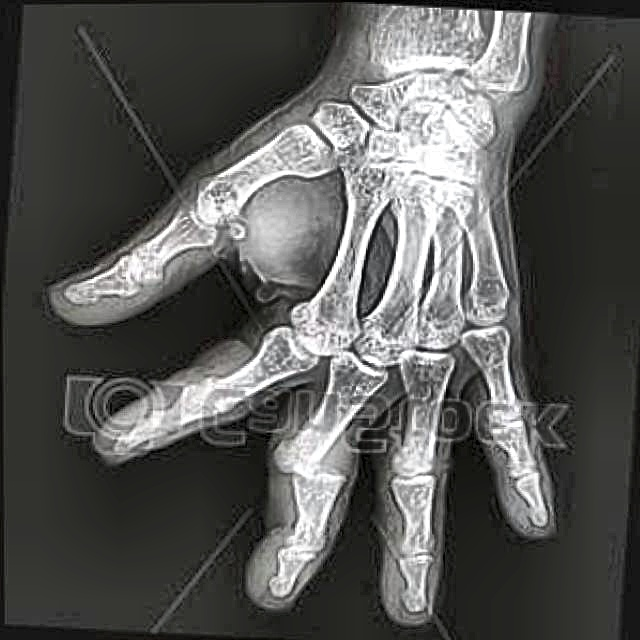Transverse: (262, 436, 356, 497)
